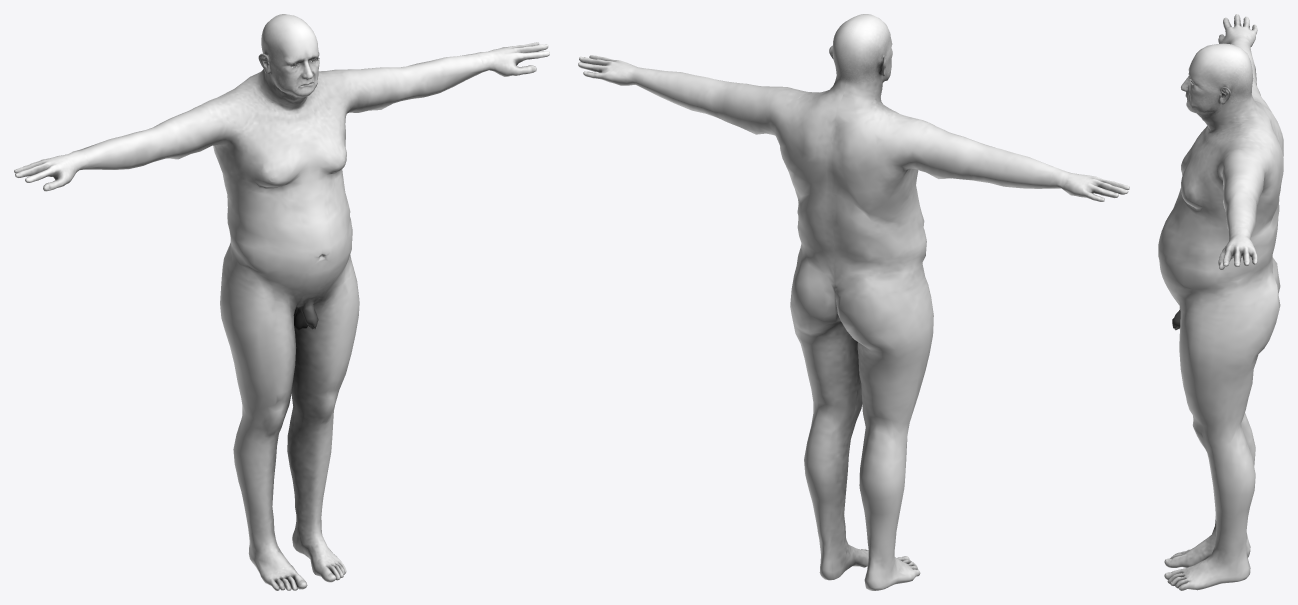
File: oldman.obj
3 renders of one model, left to right at view 1: azimuth 30°, elevation 25°; view 2: azimuth 150°, elevation 25°; view 3: azimuth 270°, elevation 25°, orthographic. The views are drawn at different scales.
Size of the model in its own units: 17.35 by 17.06 by 3.67.
Materials: 1 (1 with a texture image).
